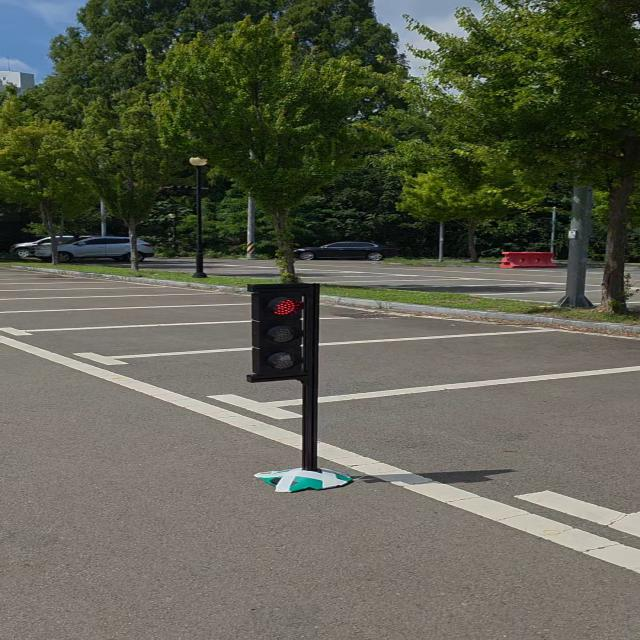red: (241, 283, 317, 379)
